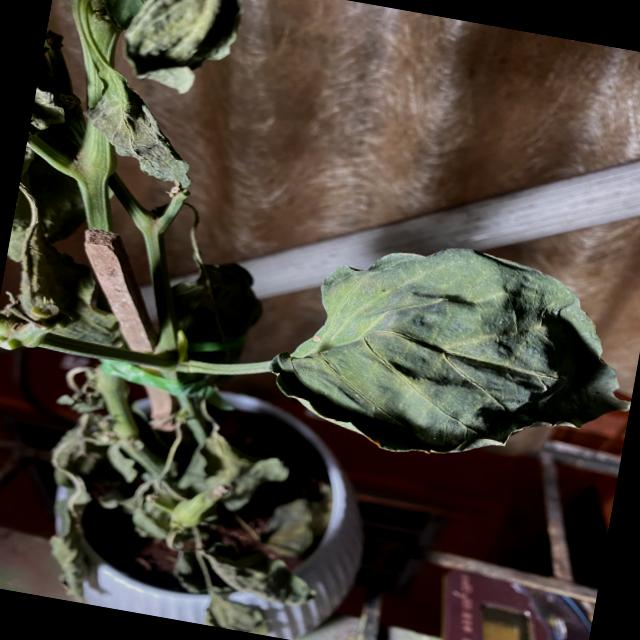Leaf: (259, 216, 640, 491)
